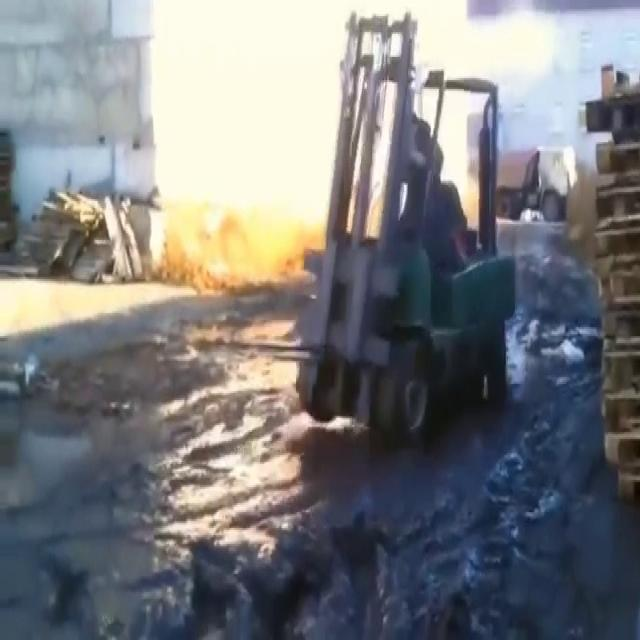Chariot elevateur: (298, 5, 518, 439)
